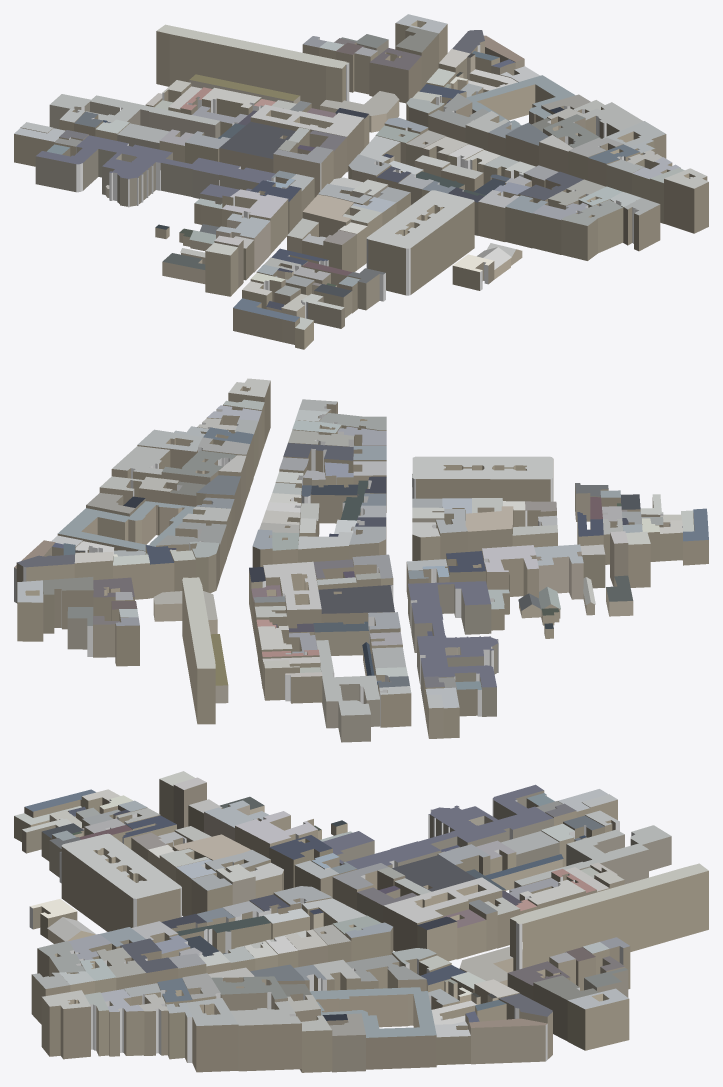
3 views of the same model, one above another, from view 1: azimuth 30°, elevation 25°; view 2: azimuth 150°, elevation 25°; view 3: azimuth 270°, elevation 25° (orthographic). The views are drawn at different scales.
Parts seen in each view (by area): view 1: tuile; view 2: tuile; view 3: tuile.
Boxes of the visible parts, bbox=[...] form: tuile: bbox=[14, 14, 708, 349]; tuile: bbox=[14, 378, 708, 742]; tuile: bbox=[14, 771, 708, 1072].
Size of the model in its own units: 267 by 29.16 by 300.
